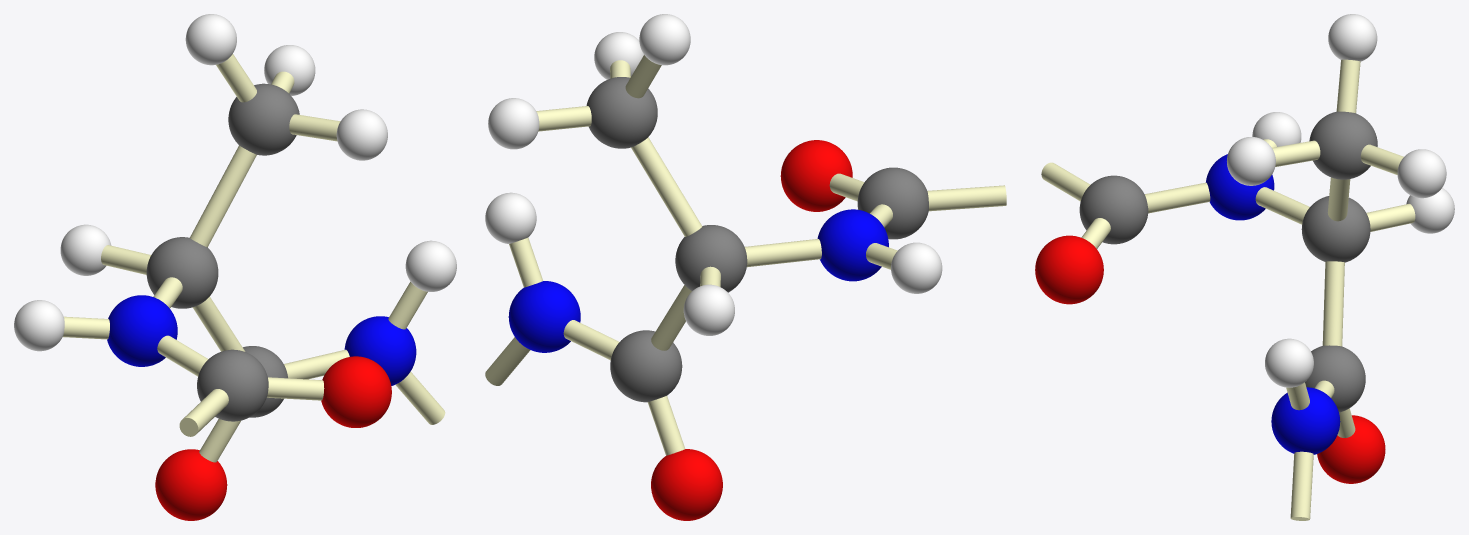
Rendered from conformation.gltf.
3 views of the same model, side by side, from view 1: azimuth 30°, elevation 25°; view 2: azimuth 150°, elevation 25°; view 3: azimuth 270°, elevation 25° (orthographic). The views are drawn at different scales.
Visible parts, largest first — view 1: ?????????2, ?????????6, ?????????3, ?????????9, ?????????1, ?????????4, ?????????13, ?????????22, ?????????10, ?????????12, ?????????7, ?????????14 (+16 smaller); view 2: ?????????6, ?????????13, ?????????5, ?????????2, ?????????9, ?????????3, ?????????4, ?????????1, ?????????22, ?????????7, ?????????10, ?????????11 (+13 smaller); view 3: ?????????2, ?????????1, ?????????9, ?????????13, ?????????4, ?????????6, ?????????5, ?????????3, ?????????11, ?????????14, ?????????12, ?????????10 (+13 smaller).
Boxes of the visible parts, x1,y1,x2,y2 form: ?????????2: (321,356,391,427); ?????????6: (155,449,227,520); ?????????3: (107,295,177,366); ?????????9: (228,83,299,155); ?????????1: (197,349,268,421); ?????????4: (146,237,218,308); ?????????13: (344,316,416,385); ?????????22: (190,145,256,247); ?????????10: (185,14,236,65); ?????????12: (336,109,387,160); ?????????7: (14,300,64,351); ?????????14: (405,240,456,291); ?????????6: (651,449,722,520); ?????????13: (508,281,580,352); ?????????5: (610,330,682,402); ?????????2: (780,140,852,211); ?????????9: (586,77,657,148); ?????????3: (817,209,888,281); ?????????4: (675,225,747,292); ?????????1: (857,167,928,239); ?????????22: (631,137,702,236); ?????????7: (891,242,942,293); ?????????10: (639,14,690,65); ?????????11: (488,98,539,149); ?????????2: (1035,235,1103,304); ?????????1: (1079,175,1148,244); ?????????9: (1309,111,1377,179); ?????????13: (1271,387,1340,454); ?????????4: (1301,196,1370,262); ?????????6: (1317,415,1385,483); ?????????5: (1305,345,1365,412); ?????????3: (1206,154,1274,220); ?????????11: (1397,149,1446,198); ?????????14: (1265,338,1313,387); ?????????12: (1227,137,1275,185); ?????????10: (1328,14,1377,61).
Bounding box in the file's own units: 49.77 × 53.24 × 42.72.
